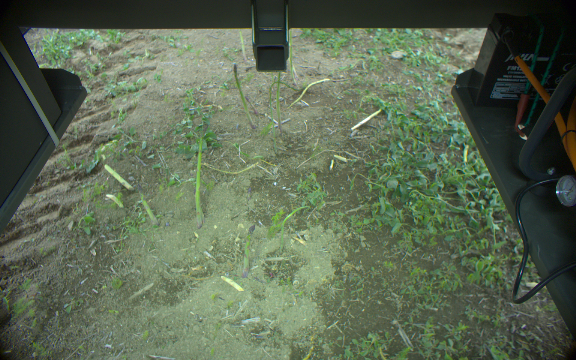aspa: (276, 203, 309, 256), (231, 62, 256, 130), (193, 121, 207, 227), (134, 188, 159, 225), (242, 224, 256, 278), (287, 32, 300, 87), (274, 71, 284, 135), (234, 27, 248, 62)
